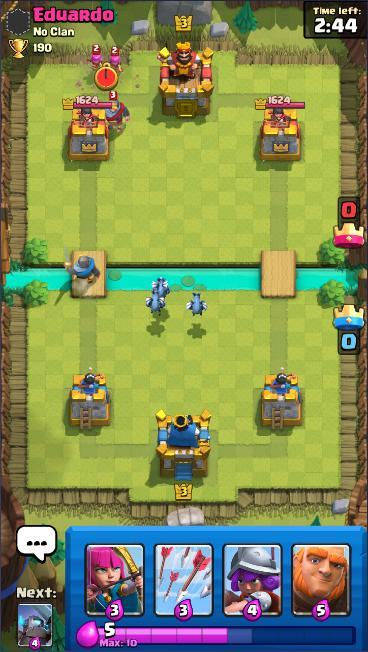ally_knight: (61, 244, 103, 286)
ally_minion: (183, 289, 209, 319), (144, 288, 168, 318), (150, 274, 172, 301)
enemy_archer: (106, 42, 125, 77), (86, 42, 105, 75)
enemy_knight: (97, 89, 133, 127)
